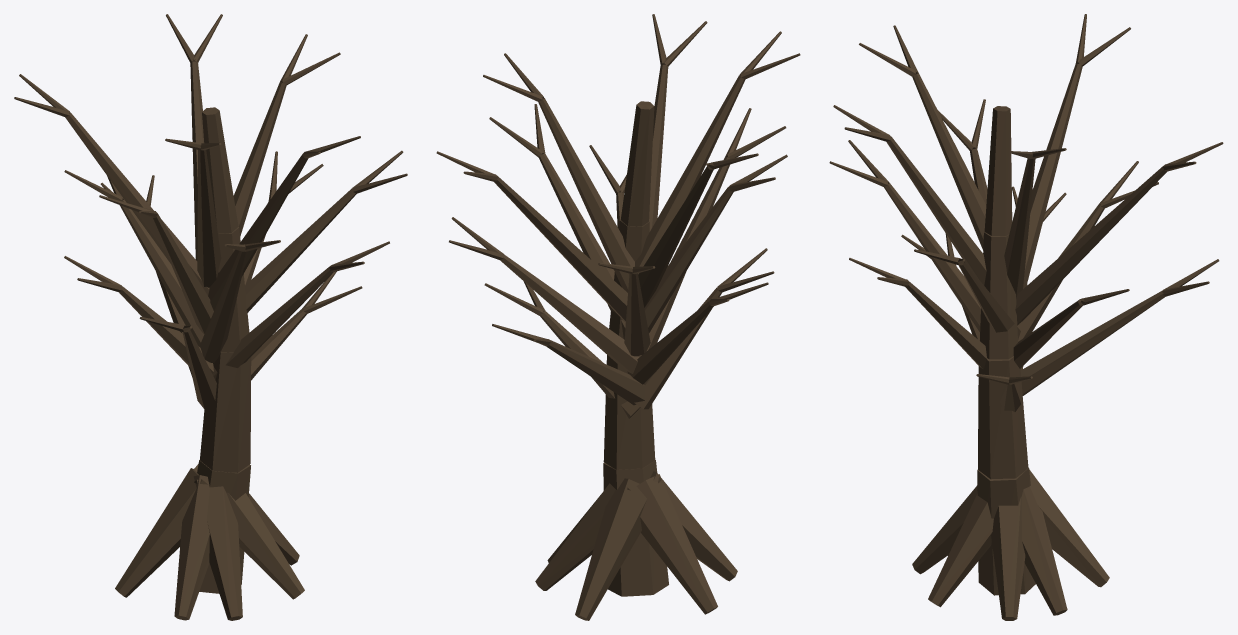
File: dead_tree_large.glb
The picture shows the model from 3 angles, left to right: view 1: azimuth 30°, elevation 25°; view 2: azimuth 150°, elevation 25°; view 3: azimuth 270°, elevation 25°; orthographic projection.
Visible parts, largest first — view 1: world-scenery/dead_tree_large; view 2: world-scenery/dead_tree_large; view 3: world-scenery/dead_tree_large.
Boxes of the visible parts, bbox=[...] form: world-scenery/dead_tree_large: bbox=[14, 14, 407, 620]; world-scenery/dead_tree_large: bbox=[436, 14, 800, 620]; world-scenery/dead_tree_large: bbox=[829, 14, 1223, 620].
Size of the model in its own units: 3.79 by 5.68 by 3.98.
